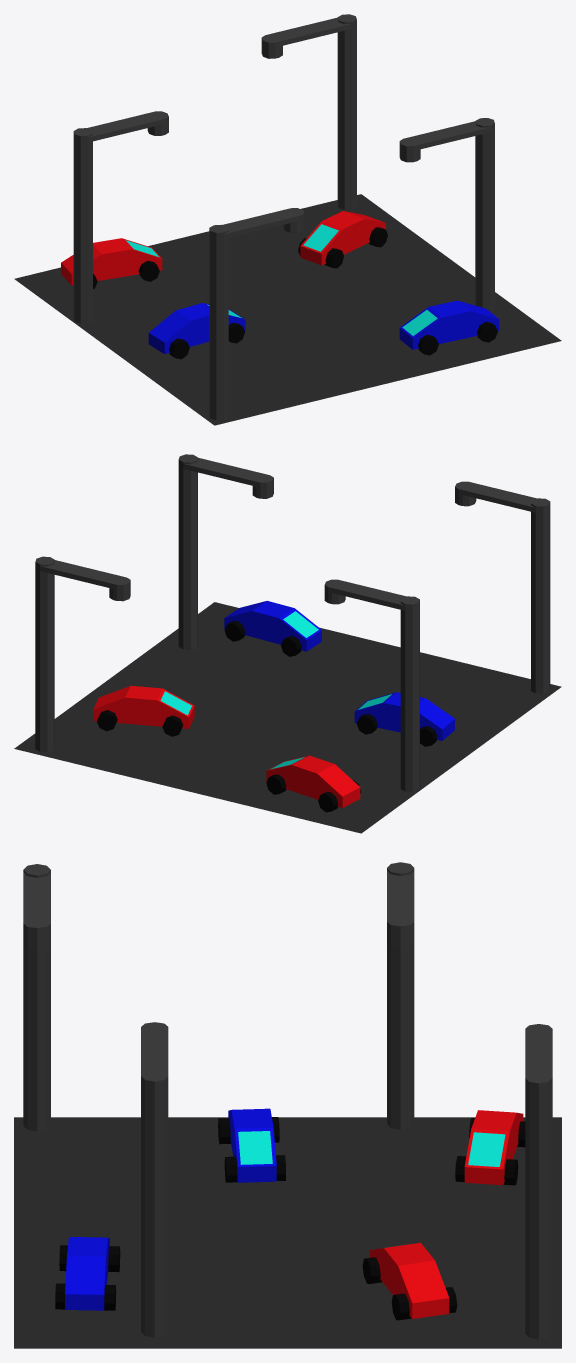
File: parkingLot.dae
3 views of the same model, one above another, from view 1: azimuth 30°, elevation 25°; view 2: azimuth 150°, elevation 25°; view 3: azimuth 270°, elevation 25° (orthographic). The views are drawn at different scales.
Parts seen in each view (by area): view 1: Plane, Cylinder.002, Cylinder.001, Cylinder, Cylinder.003, Cylinder.005, Cylinder.006, Cylinder.004, Cylinder.007; view 2: Plane, Cylinder.003, Cylinder.002, Cylinder, Cylinder.001, Cylinder.006, Cylinder.005, Cylinder.007, Cylinder.004; view 3: Plane, Cylinder.003, Cylinder.002, Cylinder.001, Cylinder, Cylinder.006, Cylinder.007, Cylinder.004, Cylinder.005.
Boxes of the visible parts, <box> form: Plane: <box>14,194,561,425</box>; Cylinder.002: <box>261,14,356,209</box>; Cylinder.001: <box>209,208,304,420</box>; Cylinder: <box>73,111,168,323</box>; Cylinder.003: <box>399,118,494,312</box>; Cylinder.005: <box>399,300,499,355</box>; Cylinder.006: <box>298,211,387,268</box>; Cylinder.004: <box>148,303,245,359</box>; Cylinder.007: <box>61,238,162,289</box>; Plane: <box>14,602,561,833</box>; Cylinder.003: <box>178,454,273,649</box>; Cylinder.002: <box>35,556,130,752</box>; Cylinder: <box>324,579,419,791</box>; Cylinder.001: <box>455,481,550,693</box>; Cylinder.006: <box>93,685,194,736</box>; Cylinder.005: <box>224,600,321,656</box>; Cylinder.007: <box>266,755,361,812</box>; Cylinder.004: <box>354,692,454,746</box>; Plane: <box>14,1117,561,1348</box>; Cylinder.003: <box>141,1022,168,1337</box>; Cylinder.002: <box>525,1024,552,1339</box>; Cylinder.001: <box>23,864,50,1131</box>; Cylinder: <box>387,862,414,1129</box>; Cylinder.006: <box>362,1242,457,1320</box>; Cylinder.007: <box>455,1110,525,1185</box>; Cylinder.004: <box>218,1108,285,1182</box>; Cylinder.005: <box>55,1237,120,1310</box>.
Bounding box in the file's own units: 4 × 4 × 2.07.
